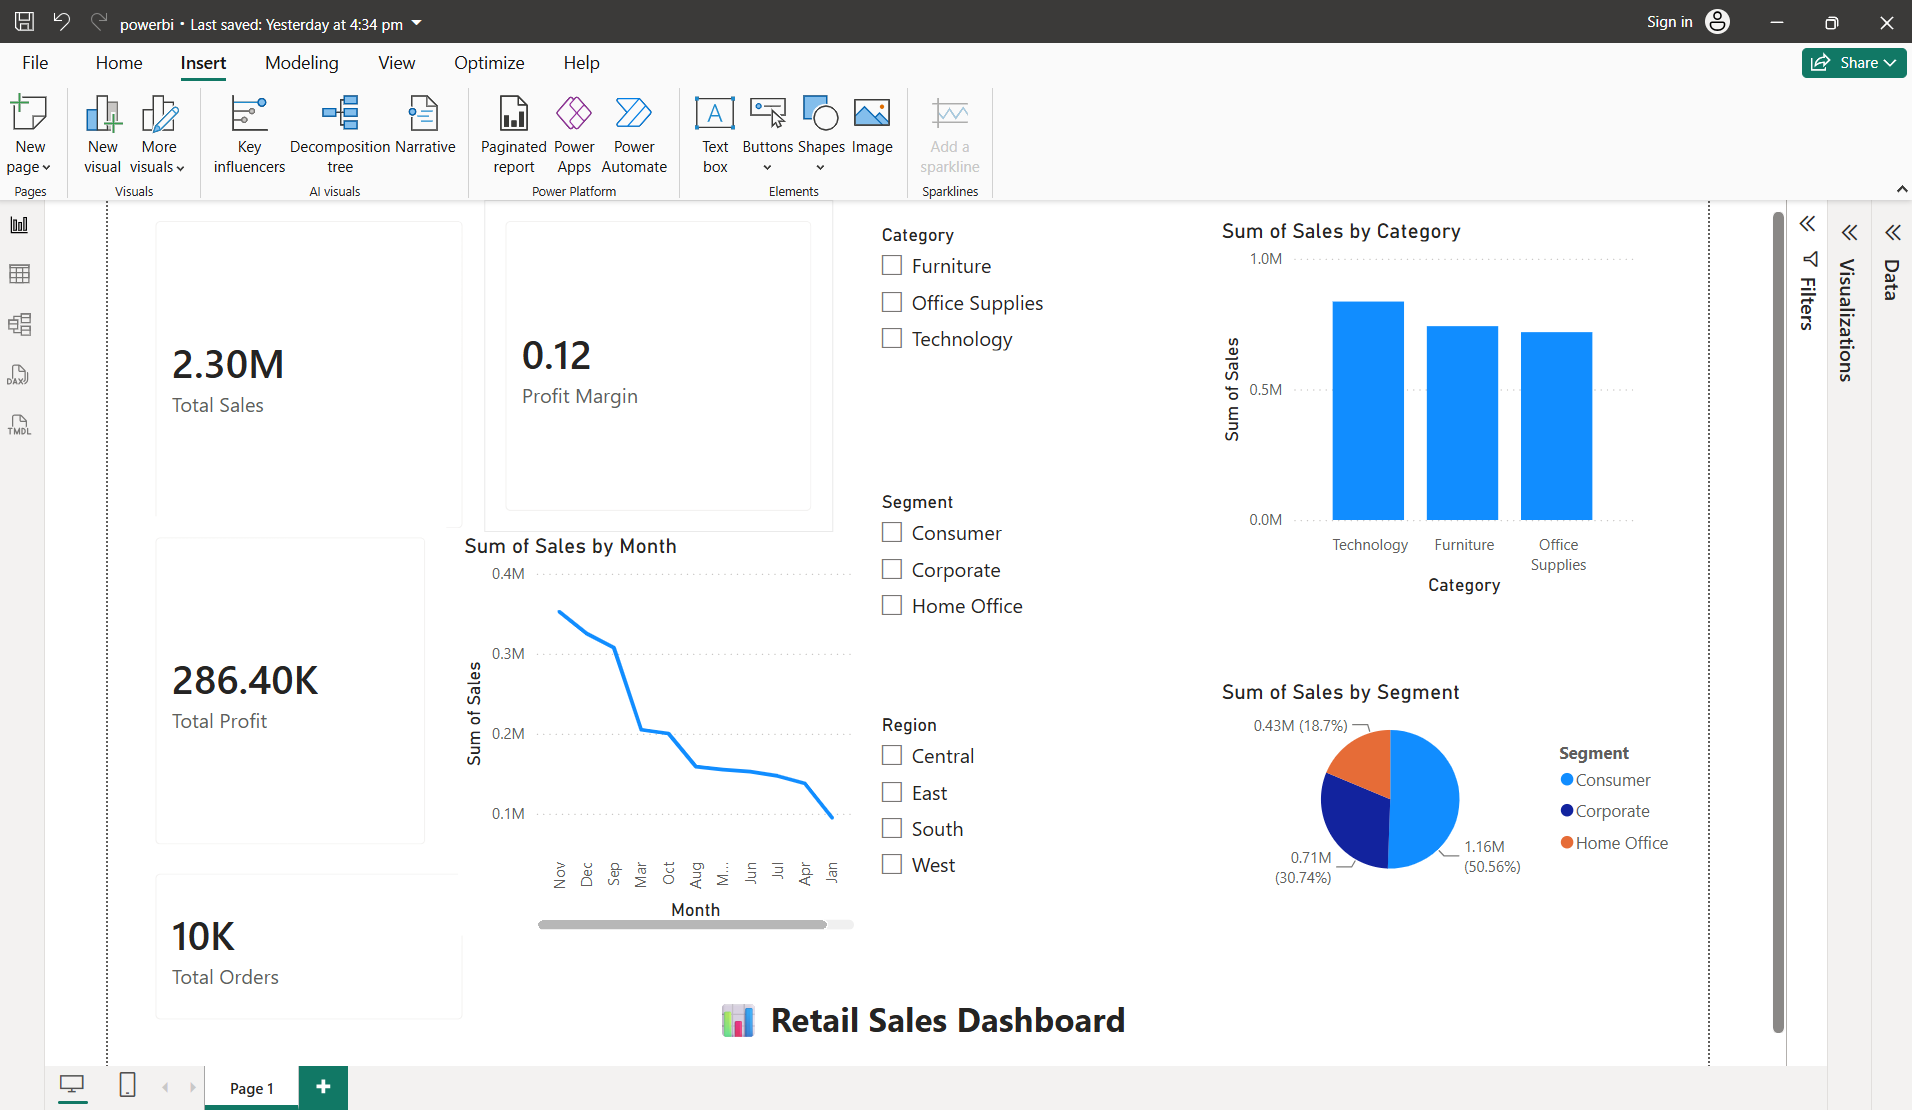

This screenshot's page, from the dashboard's own definition file:
{"tool":"powerbi","page":{"name":"Page 1","canvas":[1280,720],"ordinal":0},"visuals":[{"type":"cardVisual","fields":{"Data":["Sample - Superstore.Total Sales"]},"box":[21,0,280,280],"z":0},{"type":"cardVisual","fields":{"Data":["Sample - Superstore.Total Profit"]},"box":[21,253,250,280],"z":1000},{"type":"cardVisual","fields":{"Data":["Sample - Superstore.Total Orders"]},"box":[21,522,280,151],"z":2000},{"type":"cardVisual","fields":{"Data":["Sample - Superstore.Profit Margin"]},"box":[301,0,279,266],"z":3000},{"type":"slicer","fields":{"Values":["Sample - Superstore.Category"]},"box":[606,14,280,190],"z":4000},{"type":"slicer","fields":{"Values":["Sample - Superstore.Region"]},"box":[606,406,280,151],"z":5000},{"type":"slicer","fields":{"Values":["Sample - Superstore.Segment"]},"box":[606,228,280,165],"z":6000},{"type":"clusteredColumnChart","fields":{"Category":["Sample - Superstore.Category"],"Y":["Sum(Sample - Superstore.Sales)"]},"box":[886,14,340,307],"z":7000},{"type":"lineChart","fields":{"Category":["Sample - Superstore.Month"],"Y":["Sum(Sample - Superstore.Sales)"]},"box":[280,266,322,323],"z":8000},{"type":"pieChart","fields":{"Category":["Sample - Superstore.Segment"],"Y":["Sum(Sample - Superstore.Sales)"]},"box":[886,383,377,174],"z":9000},{"type":"textbox","box":[481,632,782,75],"z":9002}]}

Visuals, with their boxes on the page's 1280x720 design canvas (x1, y1, x2, y2). These are canvas units, not pixel positions in the 1912x1110 screenshot, which may show the page scaled, cropped or inside an application window:
cardVisual - Sample - Superstore.Total Sales: crop(21, 0, 301, 280)
cardVisual - Sample - Superstore.Total Profit: crop(21, 253, 271, 533)
cardVisual - Sample - Superstore.Total Orders: crop(21, 522, 301, 673)
cardVisual - Sample - Superstore.Profit Margin: crop(301, 0, 580, 266)
slicer - Sample - Superstore.Category: crop(606, 14, 886, 204)
slicer - Sample - Superstore.Region: crop(606, 406, 886, 557)
slicer - Sample - Superstore.Segment: crop(606, 228, 886, 393)
clusteredColumnChart - Sample - Superstore.Category x Sum(Sample - Superstore.Sales): crop(886, 14, 1226, 321)
lineChart - Sample - Superstore.Month x Sum(Sample - Superstore.Sales): crop(280, 266, 602, 589)
pieChart - Sample - Superstore.Segment x Sum(Sample - Superstore.Sales): crop(886, 383, 1263, 557)
textbox: crop(481, 632, 1263, 707)
